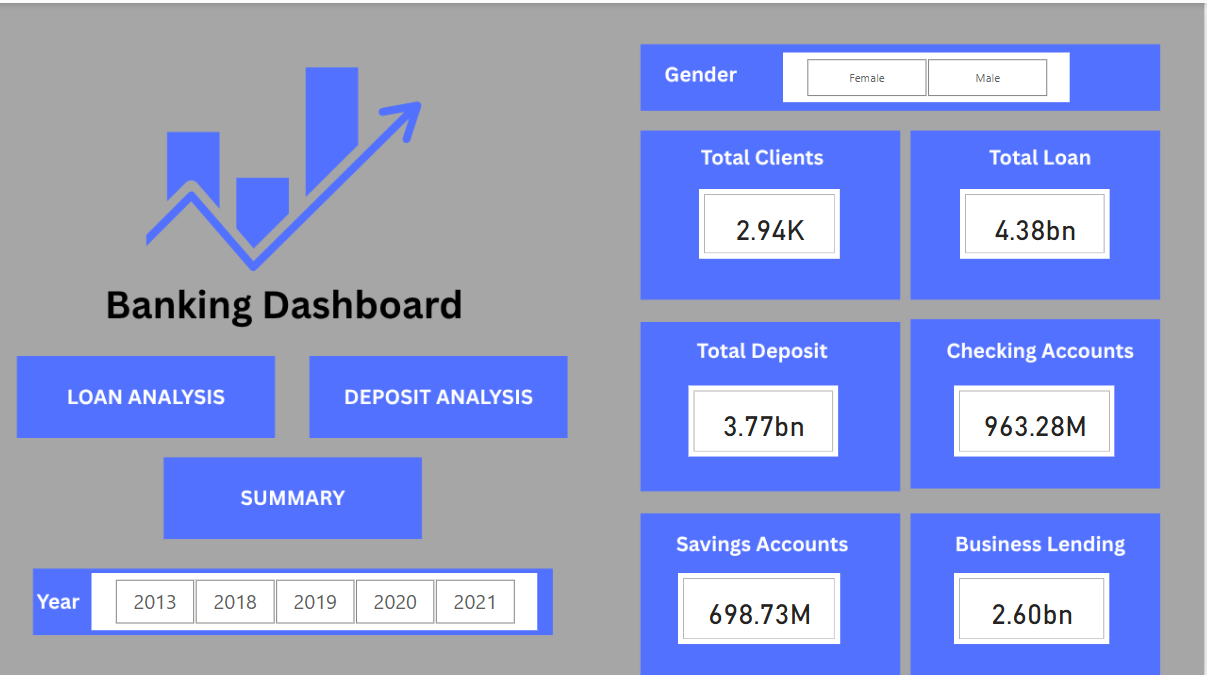

The page's visual inventory and layout, read from the dashboard file:
{"tool":"powerbi","page":{"name":"Home Page","canvas":[1280,720],"ordinal":0},"visuals":[{"type":"cardVisual","fields":{"Data":["Count(public banking.client_id)"]},"box":[744.6,196.5,149.3,73.7],"z":0},{"type":"cardVisual","fields":{"Data":["public banking.Total Loan"]},"box":[1020.5,196.5,158.7,73.7],"z":1000},{"type":"cardVisual","fields":{"Data":["Sum(public banking.checking_accounts)"]},"box":[1014.8,406.3,170.1,75.6],"z":2000},{"type":"cardVisual","fields":{"Data":["Sum(public banking.business_lending)"]},"box":[1014.8,604.7,164.4,75.6],"z":3000},{"type":"cardVisual","fields":{"Data":["Sum(public banking.saving_accounts)"]},"box":[721.9,604.7,172,75.6],"z":4000},{"type":"cardVisual","fields":{"Data":["public banking.Total Deposit"]},"box":[733.2,406.3,158.7,75.6],"z":5000},{"type":"slicer","fields":{"Values":["public banking.genderid"]},"box":[833.4,52.9,304.3,52.9],"z":6000},{"type":"slicer","fields":{"Values":["public banking.Year_of_Joining"]},"box":[100.2,604.7,472.4,60.5],"z":7000},{"type":"actionButton","box":[16.7,373.3,275,88.3],"z":8000},{"type":"actionButton","box":[325,373.3,275,88.3],"z":9000},{"type":"actionButton","box":[175,481.7,275,88.3],"z":10000}]}

Visuals, with their boxes in screenshot pixels (x1, y1, x2, y2), scaled from the page's 1280x720 canvas onto the 1207x675 screenshot:
cardVisual - Count(public banking.client_id): rect(702, 184, 843, 253)
cardVisual - public banking.Total Loan: rect(962, 184, 1112, 253)
cardVisual - Sum(public banking.checking_accounts): rect(957, 381, 1117, 452)
cardVisual - Sum(public banking.business_lending): rect(957, 567, 1112, 638)
cardVisual - Sum(public banking.saving_accounts): rect(681, 567, 843, 638)
cardVisual - public banking.Total Deposit: rect(691, 381, 841, 452)
slicer - public banking.genderid: rect(786, 50, 1073, 99)
slicer - public banking.Year_of_Joining: rect(94, 567, 540, 624)
actionButton: rect(16, 350, 275, 433)
actionButton: rect(306, 350, 566, 433)
actionButton: rect(165, 452, 424, 534)
